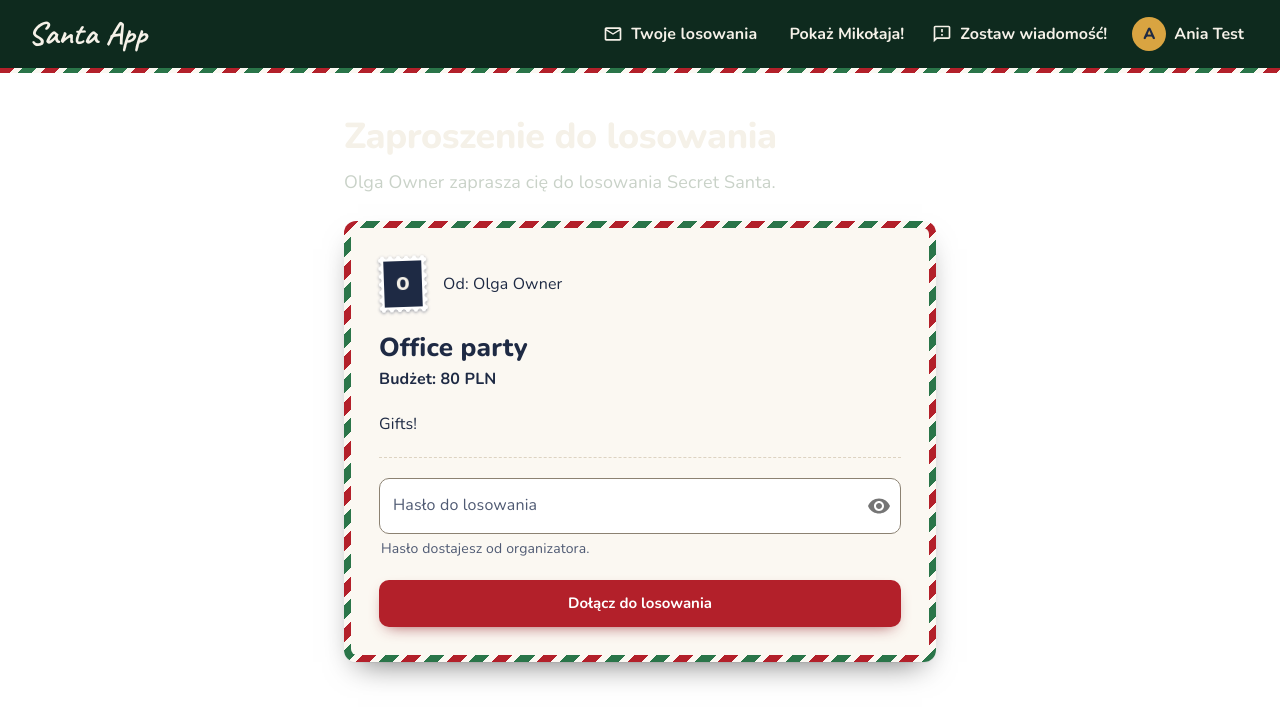
it: JoinToDrawPage › confirms joining with the right password
Type "secret1" into the password field labelled "Hasło do losowania" at (615, 506), box x1=379 y1=478 x2=851 y2=534
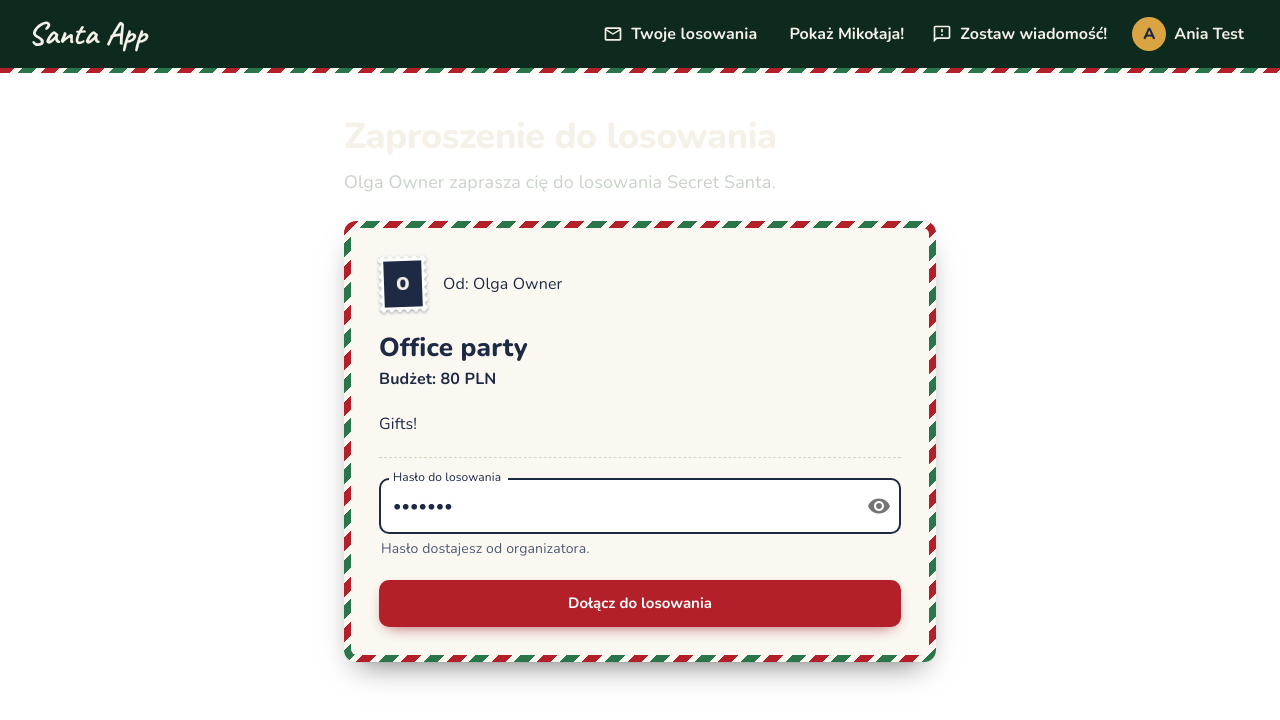
Click the button "Dołącz do losowania" at (640, 603), box x1=379 y1=580 x2=901 y2=627
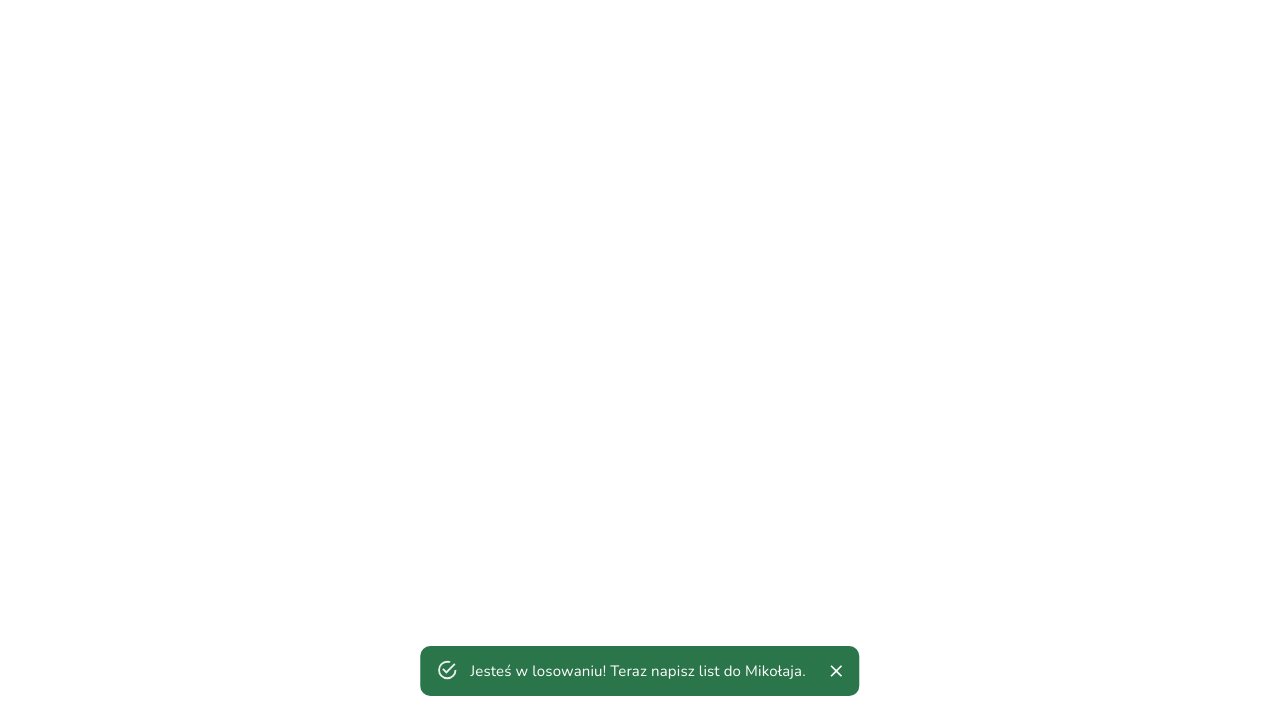
Expected: the text "Jesteś w losowaniu! Teraz napisz list do Mikołaja." is shown, x1=470 y1=660 x2=806 y2=680
